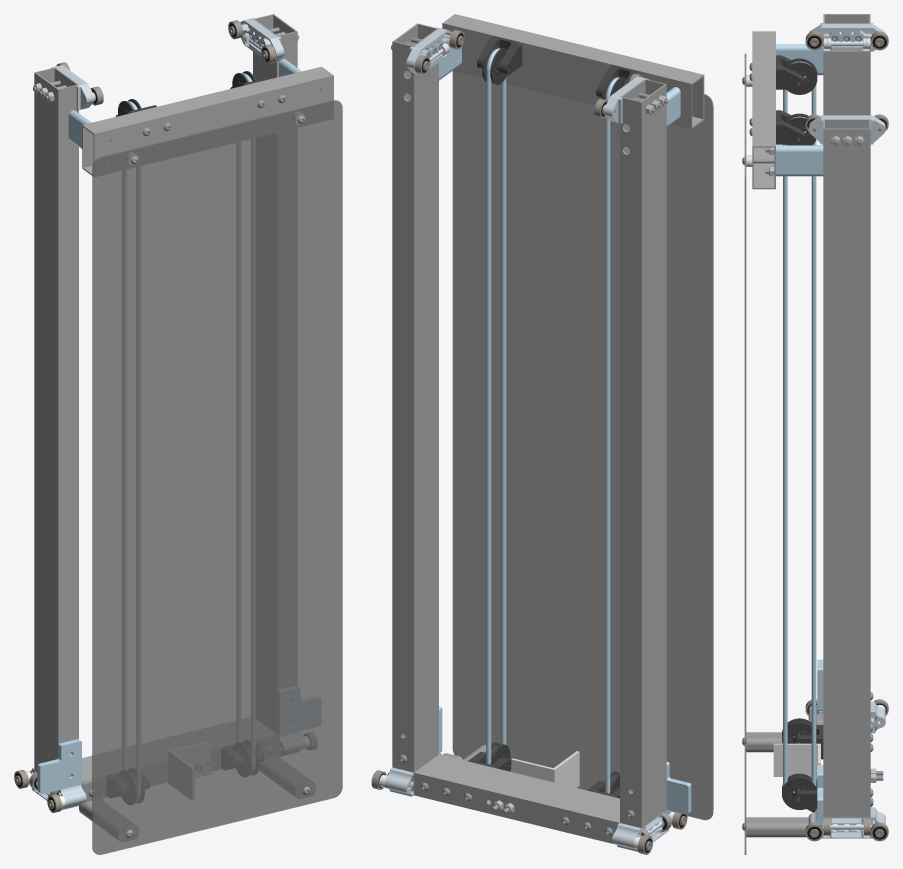
3 views of the same model, side by side, from view 1: azimuth 30°, elevation 25°; view 2: azimuth 150°, elevation 25°; view 3: azimuth 270°, elevation 25° (orthographic). The views are drawn at different scales.
Visible parts, largest first — view 1: sponsor, 2R, 2L, 2T, string (×2), 2B, 2hardstop (×2), sponsor 2b spacer (×2), chain mount, WCP-0897-001 Rev1 (×2); view 2: sponsor, 2R, 2L, string (×2), 2T, 2B, WCP-0897-001 Rev1 (×2), WCP-0199-001 Rev2 (×2), chain mount, Cascade Pulley Block (WCP-0298), 2hardstop; view 3: 2L, string (×2), 2T, 2R, sponsor, Crossbar Spacer (×2), Cascade Pulley Block (WCP-0298) (×4), sponsor 2b spacer (×2), WCP-0897-001 Rev1 (×2), WCP-0096-001 Rev6 (×4), WCP-0199-001 Rev2 (×2), chain mount (+1 smaller).
Part boxes in pixels (<box>): sponsor: <box>92,100,342,854</box>; 2R: <box>34,67,78,771</box>; 2L: <box>253,14,297,732</box>; 2T: <box>82,66,333,176</box>; string (×2): <box>122,73,254,801</box>; 2B: <box>82,717,276,797</box>; 2hardstop (×2): <box>37,686,320,794</box>; sponsor 2b spacer (×2): <box>79,736,315,841</box>; chain mount: <box>169,741,210,800</box>; WCP-0897-001 Rev1 (×2): <box>51,18,284,110</box>; sponsor: <box>452,71,713,820</box>; 2R: <box>620,79,666,827</box>; 2L: <box>392,23,438,772</box>; string (×2): <box>486,48,619,793</box>; 2T: <box>442,14,704,129</box>; 2B: <box>414,754,619,844</box>; WCP-0897-001 Rev1 (×2): <box>406,27,649,123</box>; WCP-0199-001 Rev2 (×2): <box>384,737,671,851</box>; chain mount: <box>511,751,579,787</box>; Cascade Pulley Block (WCP-0298): <box>477,36,522,74</box>; 2hardstop: <box>666,761,691,814</box>; 2L: <box>823,119,870,817</box>; string (×2): <box>783,61,816,786</box>; 2T: <box>752,31,775,189</box>; 2R: <box>823,14,870,115</box>; sponsor: <box>744,53,746,854</box>; Crossbar Spacer (×2): <box>776,44,823,176</box>; Cascade Pulley Block (WCP-0298) (×4): <box>776,55,823,812</box>; sponsor 2b spacer (×2): <box>746,714,823,837</box>; WCP-0897-001 Rev1 (×2): <box>808,22,885,144</box>; WCP-0096-001 Rev6 (×4): <box>782,62,817,809</box>; WCP-0199-001 Rev2 (×2): <box>808,702,885,838</box>; chain mount: <box>773,743,820,776</box>.
Size of the model in its own units: 0.3429 by 0.8585 by 0.1566.
